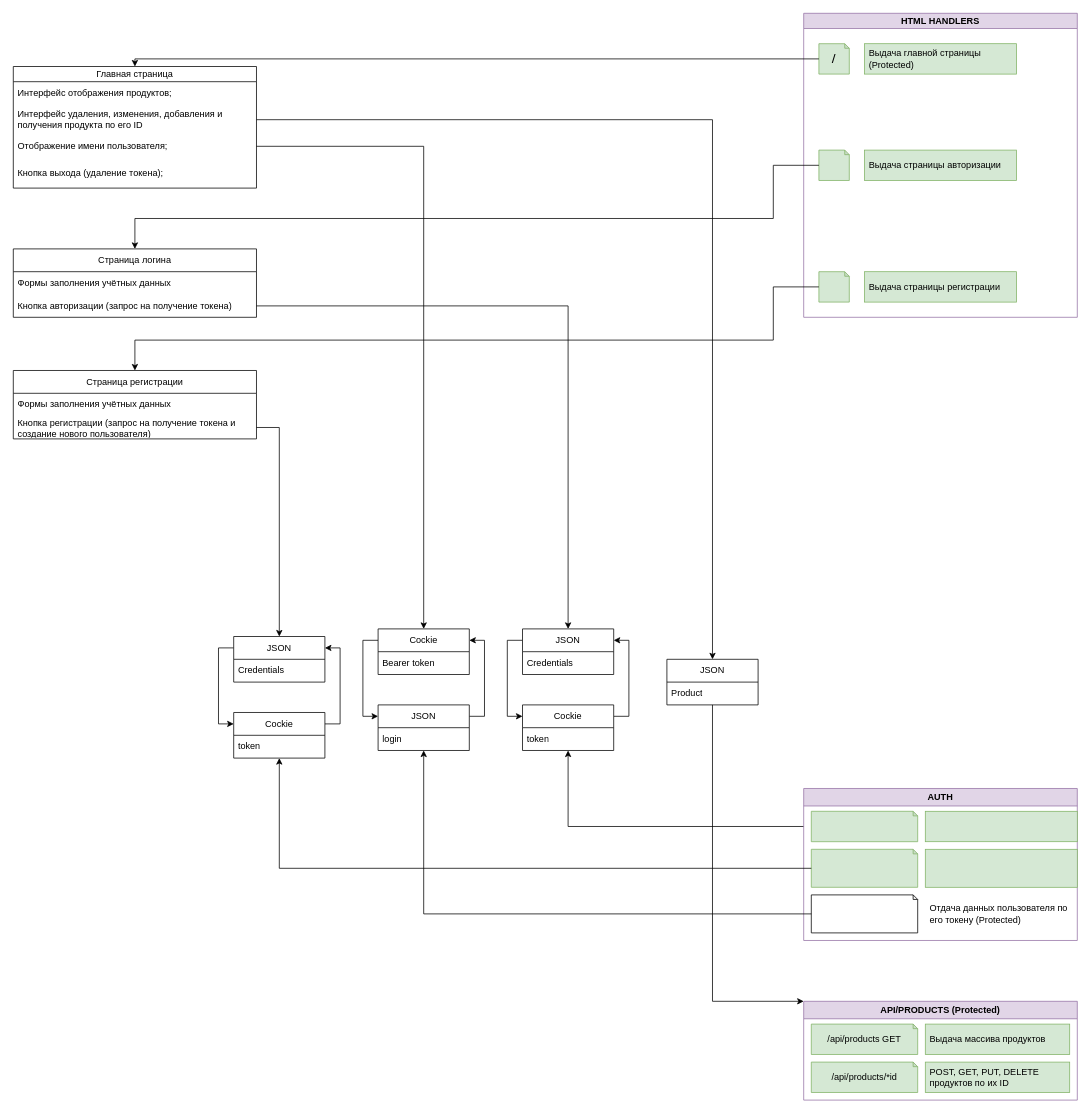
This 1091x1113 diagram has some shape labels left out. Each missing label, with the centre of its shape:
"/auth/login POST" goes at pixel 864 826.
"/auth/me POST" goes at pixel 864 913.
"/auth/register POST" goes at pixel 864 868.
"/login" goes at pixel 833 164.
"/register" goes at pixel 833 286.
"Авторизация пользователя (выдача токена)" goes at pixel 1001 826.
"Регистрация пользователя Занесение в базу данных, отправка токена" goes at pixel 1001 868.
